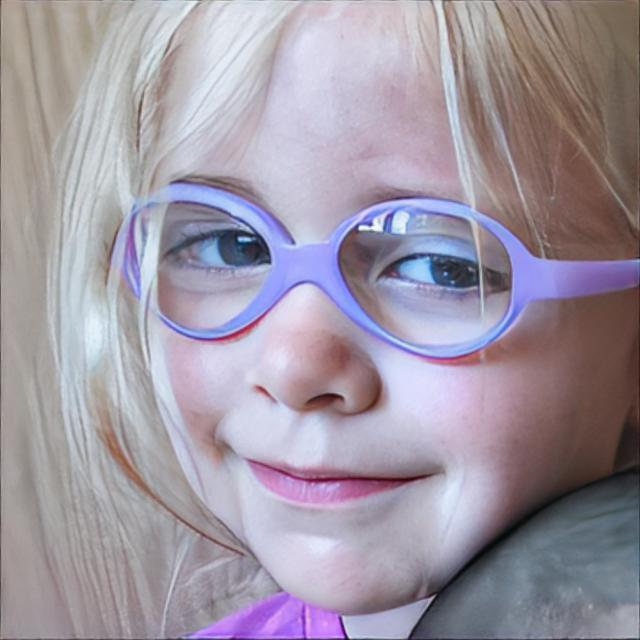happy: (136, 70, 594, 613)
